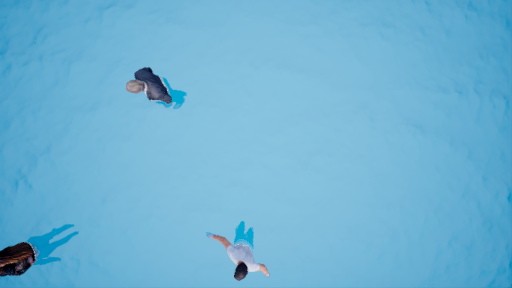person: (196, 209, 279, 283), (1, 210, 68, 283), (130, 57, 192, 113)
